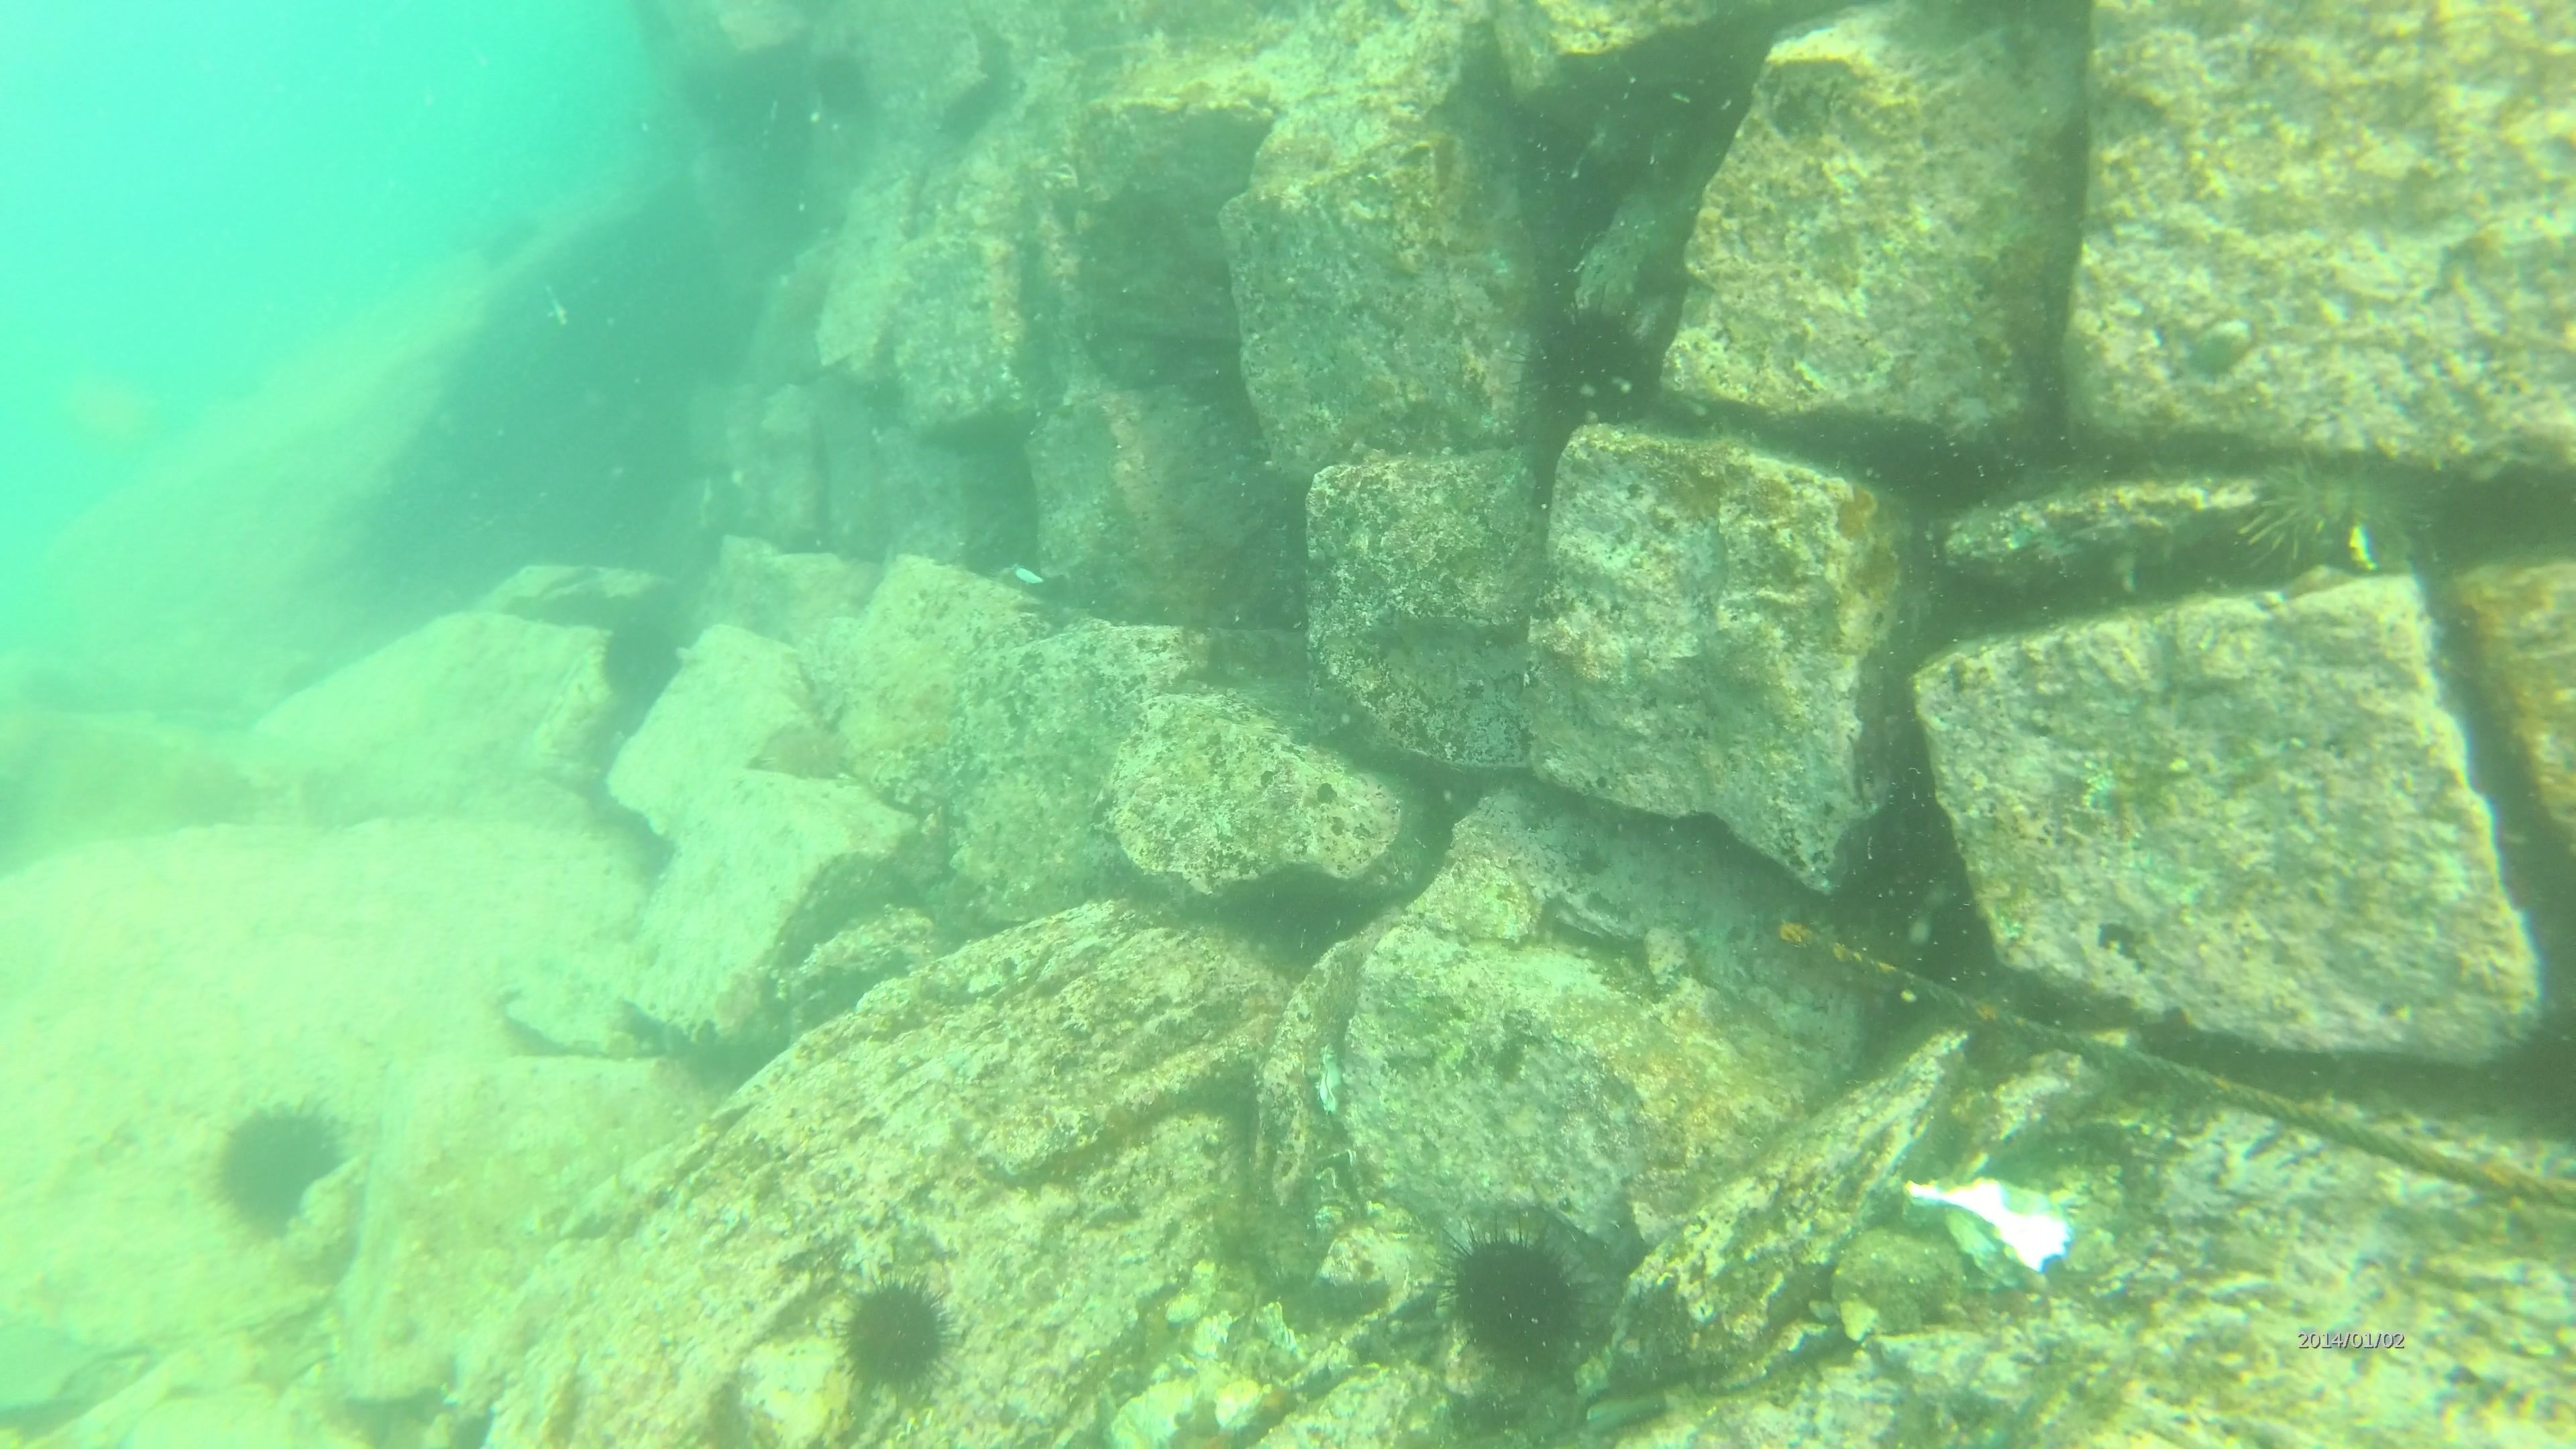echinus: (2229, 448, 2442, 589), (1435, 1221, 1596, 1380), (203, 1092, 354, 1240), (1522, 297, 1674, 441), (830, 1270, 961, 1399), (591, 602, 695, 713), (801, 41, 885, 131)
